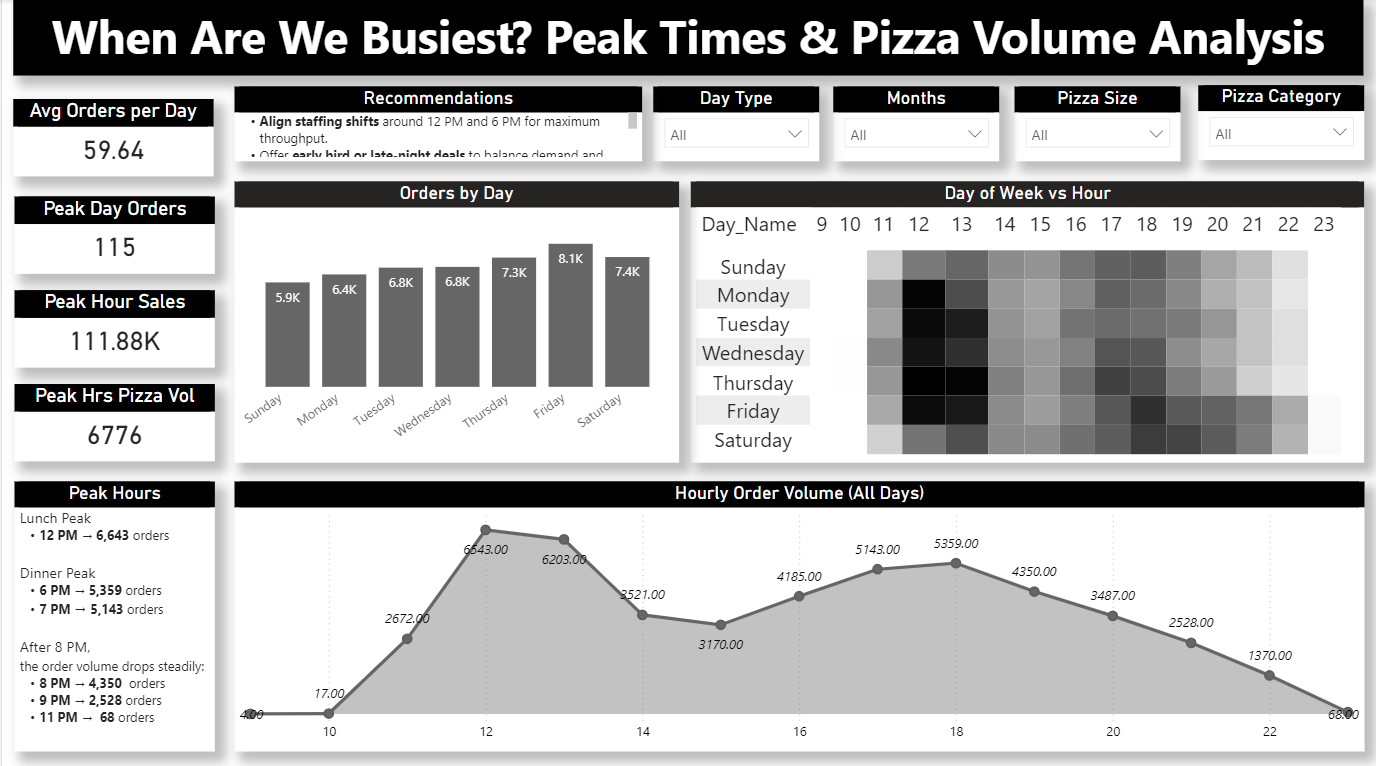

The dashboard page shown, as its layout file describes it:
{"tool":"powerbi","page":{"name":"Page 2","canvas":[1280,720],"ordinal":1},"visuals":[{"type":"textbox","box":[10.5,0,1255.8,70.9],"z":0},{"type":"card","title":"Avg Orders per Day","fields":{"Values":["pizza.Avg Orders/Day"]},"box":[11,92.9,186,72.4],"z":1000},{"type":"card","title":"Peak Day Orders","fields":{"Values":["pizza.Peak Day Orders"]},"box":[11.3,183.2,186.6,72.4],"z":2000},{"type":"card","title":"Peak Hour Sales","fields":{"Values":["pizza.Peak Hour Sales"]},"box":[11.3,271.4,186.6,72.4],"z":3000},{"type":"card","title":"Peak Hrs Pizza Vol","fields":{"Values":["pizza.Peak Hour Quantity"]},"box":[11.3,358.4,186.6,72.4],"z":4000},{"type":"pivotTable","title":"Day of Week vs Hour","fields":{"Rows":["pizza.Day_Name"],"Columns":["pizza.Hour"],"Values":["Sum(pizza.quantity)"]},"box":[640.1,169.2,626.6,261.2],"z":5000},{"type":"columnChart","title":"Orders by Day","fields":{"Category":["pizza.Day_Name"],"Y":["CountNonNull(pizza.pizza_id)"]},"box":[215.8,169.2,413.3,261.2],"z":6000},{"type":"lineChart","title":"Hourly Order Volume (All Days)","fields":{"Category":["pizza.Hour"],"Y":["CountNonNull(pizza.pizza_id)"]},"box":[215.8,448.8,1050.9,251.4],"z":7000},{"type":"slicer","title":"Pizza Category","fields":{"Values":["pizza.pizza_category"]},"box":[1112.2,79.7,154.5,69.9],"z":8000},{"type":"slicer","title":"Pizza Size","fields":{"Values":["pizza.pizza_size"]},"box":[941.8,80.9,154.5,69.9],"z":9000},{"type":"slicer","title":"Months","fields":{"Values":["pizza.Month_Name"]},"box":[773.8,80.9,154.5,69.9],"z":10000},{"type":"slicer","title":"Day Type","fields":{"Values":["pizza.Day Type"]},"box":[605.8,80.9,154.5,69.9],"z":11000},{"type":"textbox","title":"Peak Hours","box":[11.3,448.9,186.6,251],"z":12000},{"type":"textbox","title":"Recommendations","box":[216.3,81.4,379.1,69.8],"z":13000}]}

Visuals, with their boxes in screenshot pixels (x1, y1, x2, y2), scaled from the page's 1280x720 canvas onto the 1376x766 screenshot:
textbox: 11:0:1361:75
"Avg Orders per Day" card: 12:99:212:176
"Peak Day Orders" card: 12:195:213:272
"Peak Hour Sales" card: 12:289:213:366
"Peak Hrs Pizza Vol" card: 12:381:213:458
"Day of Week vs Hour" pivotTable: 688:180:1362:458
"Orders by Day" columnChart: 232:180:676:458
"Hourly Order Volume (All Days)" lineChart: 232:477:1362:745
"Pizza Category" slicer: 1196:85:1362:159
"Pizza Size" slicer: 1012:86:1179:160
"Months" slicer: 832:86:998:160
"Day Type" slicer: 651:86:817:160
"Peak Hours" textbox: 12:478:213:745
"Recommendations" textbox: 233:87:640:161
